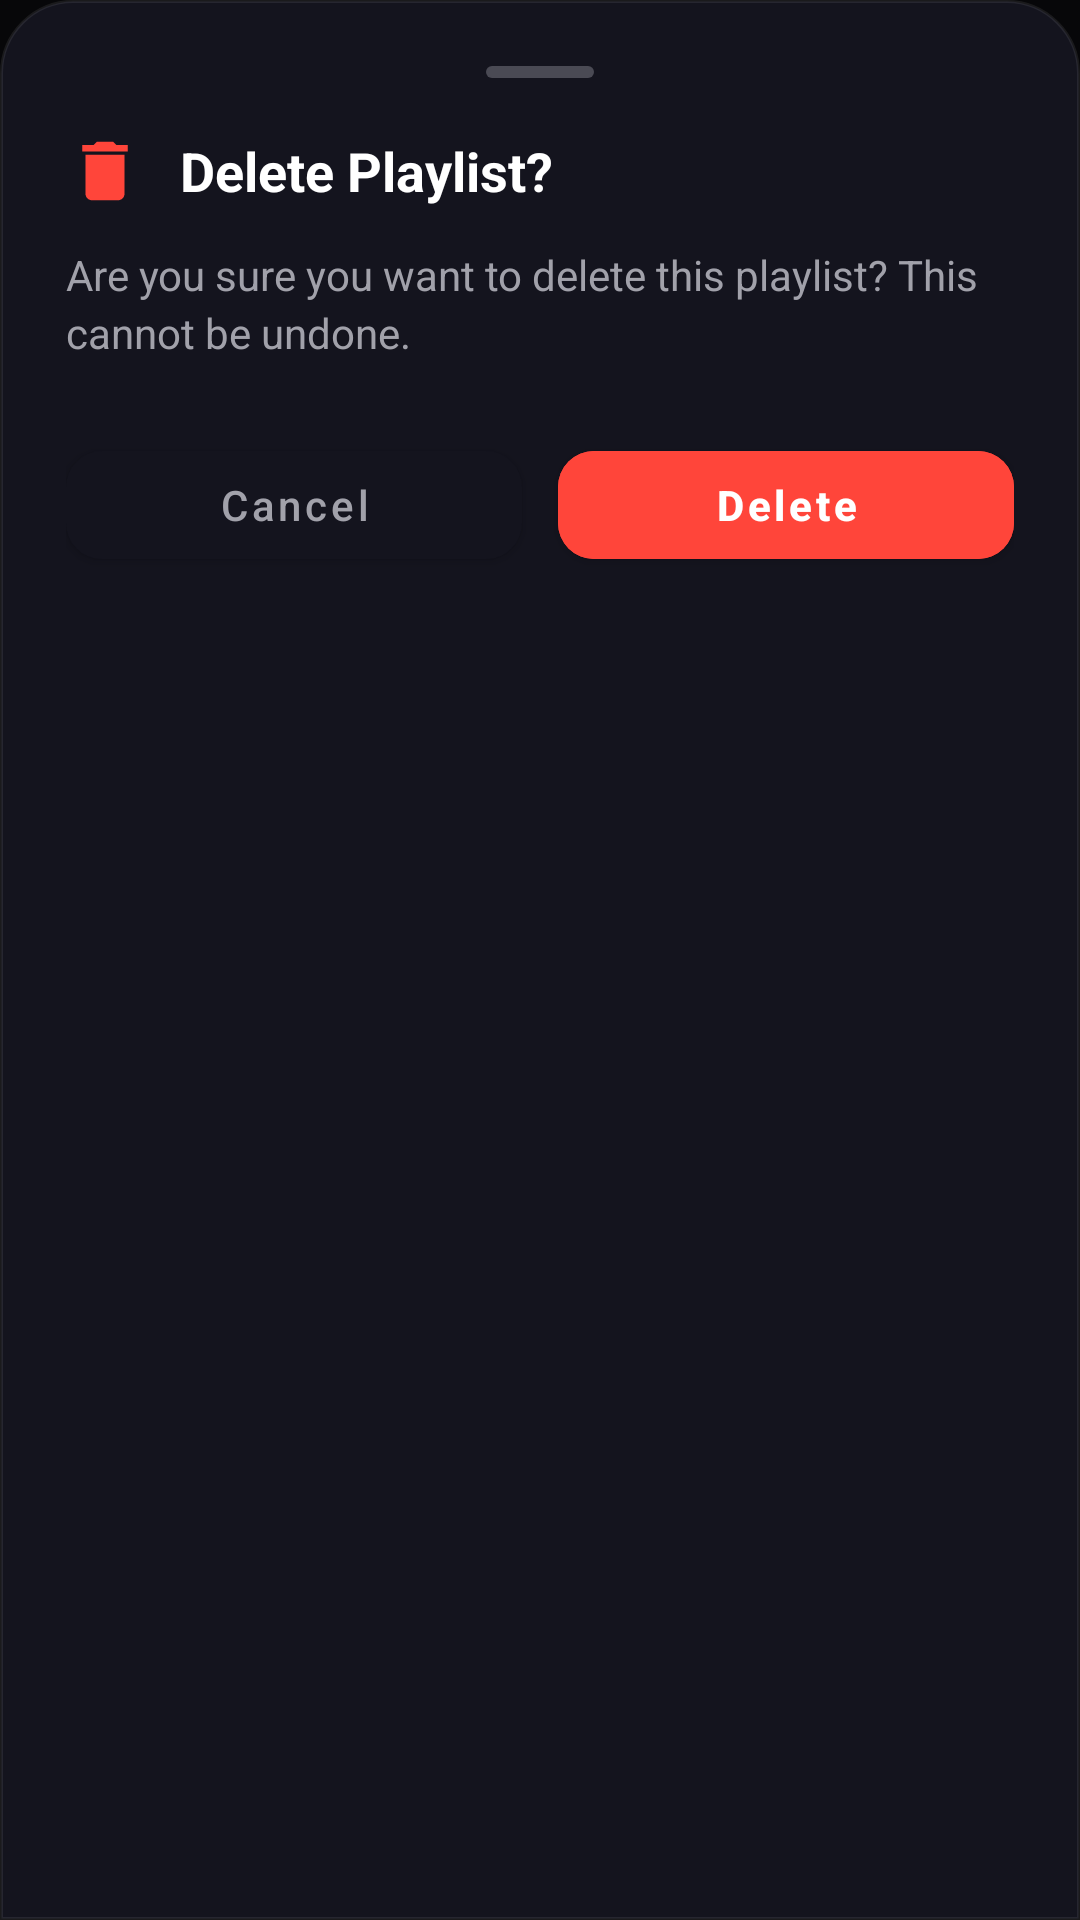

Icon bounding boxes for this 1080x1920 phone screenshot, format (x1,y1,x2,y2):
trash: (82,141,128,201)
